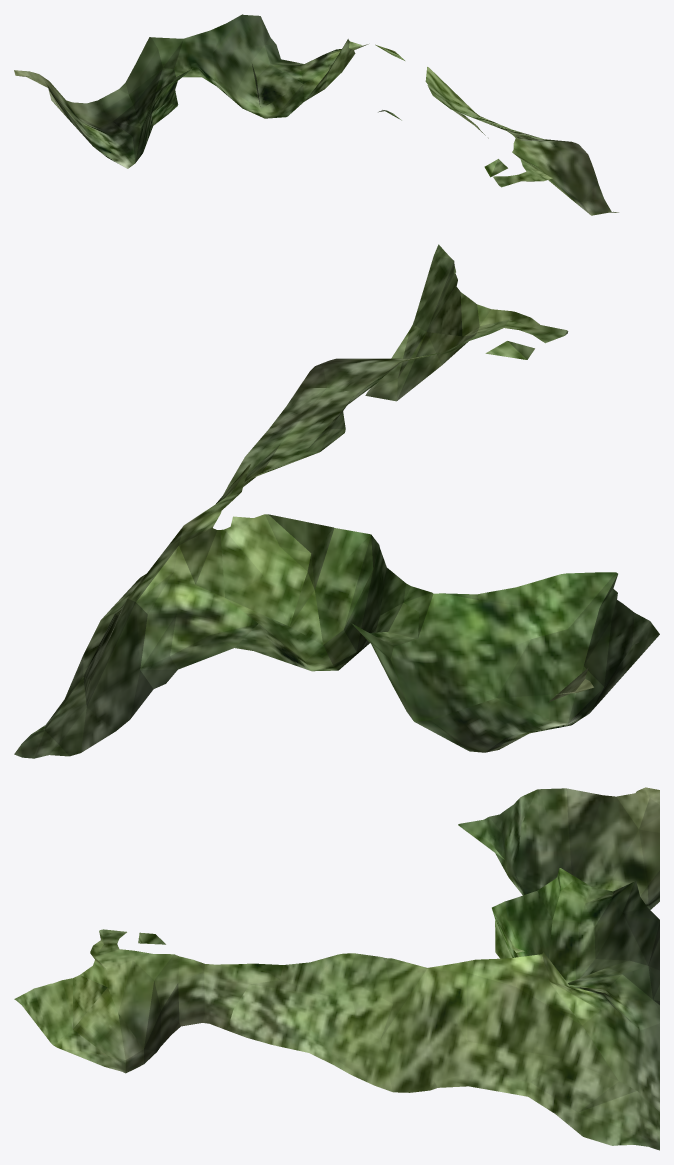
3 renders of one model, top to bottom at view 1: azimuth 30°, elevation 25°; view 2: azimuth 150°, elevation 25°; view 3: azimuth 270°, elevation 25°, orthographic. The views are drawn at different scales.
Size of the model in its own units: 2.15 by 0.7201 by 2.77.
Materials: 1 (1 with a texture image).
